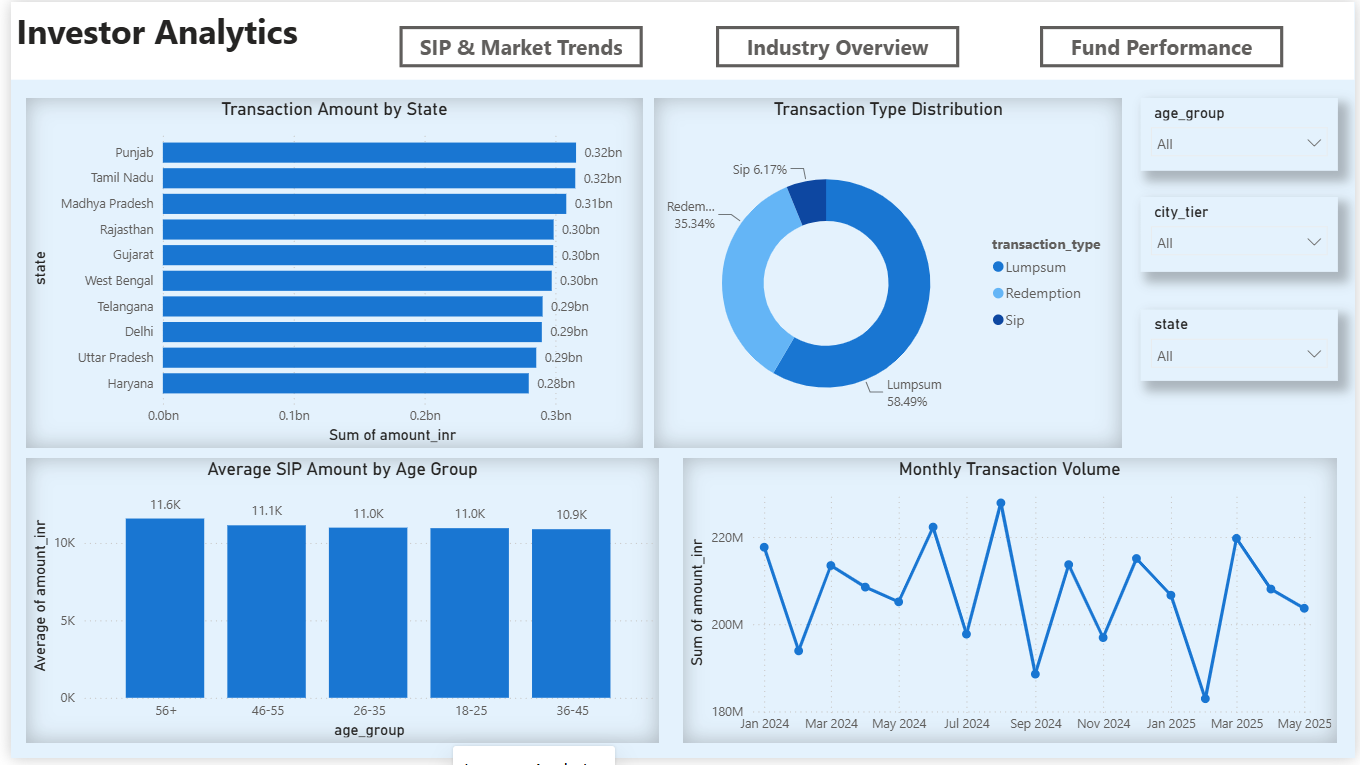

This screenshot's page, from the dashboard's own definition file:
{"tool":"powerbi","page":{"name":"Investor Analytics","canvas":[1280,720],"ordinal":2},"visuals":[{"type":"clusteredBarChart","title":"Transaction Amount by State","fields":{"Category":["08_investor_transactions_cleaned.state"],"Y":["Sum(08_investor_transactions_cleaned.amount_inr)"]},"box":[13.6,90.9,587.5,333.1],"z":0},{"type":"donutChart","title":"Transaction Type Distribution","fields":{"Category":["08_investor_transactions_cleaned.transaction_type"],"Y":["Sum(08_investor_transactions_cleaned.amount_inr)"]},"box":[613.3,90.9,445.2,333.1],"z":1000},{"type":"clusteredColumnChart","title":"Average SIP Amount by Age Group","fields":{"Category":["08_investor_transactions_cleaned.age_group"],"Y":["Avg(08_investor_transactions_cleaned.amount_inr)"]},"box":[13.6,434.6,602.7,271],"z":2000},{"type":"lineChart","title":"Monthly Transaction Volume","fields":{"Y":["Sum(08_investor_transactions_cleaned.amount_inr)"],"Category":["08_investor_transactions_cleaned.transaction_date.Variation.Date Hierarchy.Year","08_investor_transactions_cleaned.transaction_date.Variation.Date Hierarchy.Quarter","08_investor_transactions_cleaned.transaction_date.Variation.Date Hierarchy.Month"]},"box":[640.5,434.6,622.3,271],"z":3000},{"type":"slicer","fields":{"Values":["08_investor_transactions_cleaned.state"]},"box":[1075.1,292.2,187.8,68.1],"z":4000},{"type":"slicer","fields":{"Values":["08_investor_transactions_cleaned.age_group"]},"box":[1075.1,90.9,187.8,69.7],"z":5000},{"type":"slicer","fields":{"Values":["08_investor_transactions_cleaned.city_tier"]},"box":[1075.1,186.2,187.8,71.2],"z":6000},{"type":"textbox","box":[0,0,1279.5,74.2],"z":7000},{"type":"actionButton","box":[369.5,22.7,231.7,39.4],"z":8000},{"type":"actionButton","box":[670.8,22.7,231.7,39.4],"z":9000},{"type":"actionButton","box":[979.7,22.7,231.7,39.4],"z":10000}]}

Visuals, with their boxes in screenshot pixels (x1, y1, x2, y2), scaled from the page's 1280x720 canvas onto the 1360x765 screenshot:
"Transaction Amount by State" clusteredBarChart: (14, 97, 639, 450)
"Transaction Type Distribution" donutChart: (652, 97, 1125, 450)
"Average SIP Amount by Age Group" clusteredColumnChart: (14, 462, 655, 750)
"Monthly Transaction Volume" lineChart: (681, 462, 1342, 750)
slicer - 08_investor_transactions_cleaned.state: (1142, 310, 1342, 383)
slicer - 08_investor_transactions_cleaned.age_group: (1142, 97, 1342, 171)
slicer - 08_investor_transactions_cleaned.city_tier: (1142, 198, 1342, 273)
textbox: (0, 0, 1359, 79)
actionButton: (393, 24, 639, 66)
actionButton: (713, 24, 959, 66)
actionButton: (1041, 24, 1287, 66)
